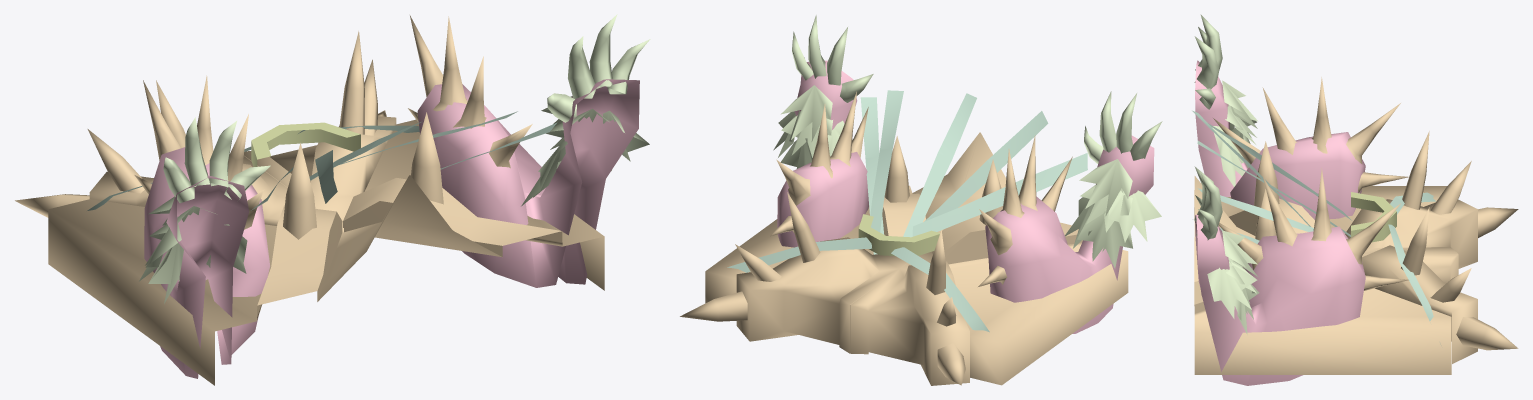
3 renders of one model, left to right at view 1: azimuth 30°, elevation 25°; view 2: azimuth 150°, elevation 25°; view 3: azimuth 270°, elevation 25°, orthographic. The views are drawn at different scales.
Visible parts, largest first — view 1: Object22; view 2: Object22; view 3: Object22.
Boxes of the visible parts, left/top/right/bottom form: Object22: left=15, top=14, right=650, bottom=385; Object22: left=680, top=15, right=1162, bottom=385; Object22: left=1192, top=14, right=1518, bottom=385.
Size of the model in its own units: 66957 by 36306 by 48775.
